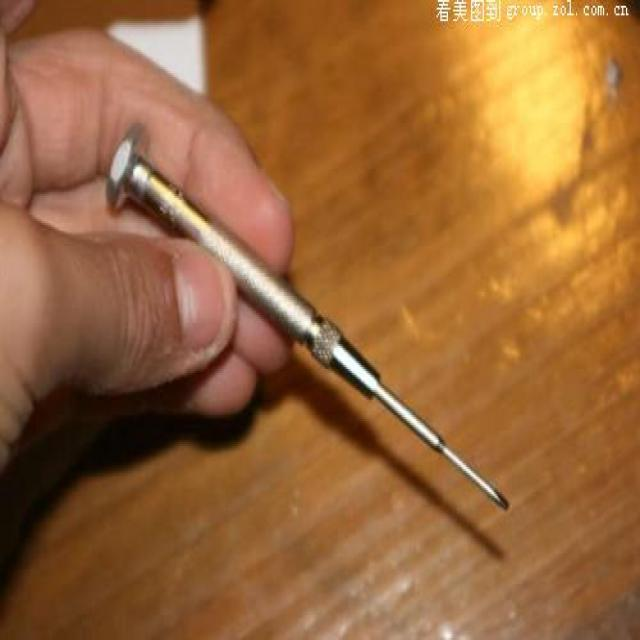screwdriver: (92, 107, 518, 511)
